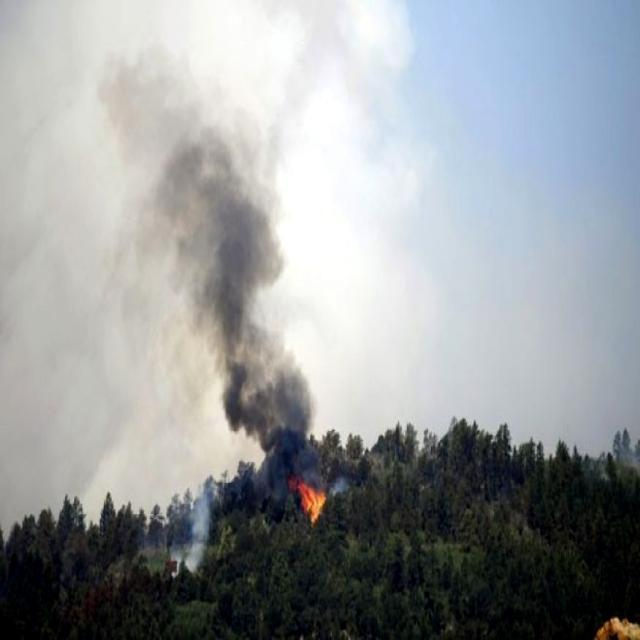Fire: (293, 472, 325, 528)
Smoke: (150, 71, 318, 468)
